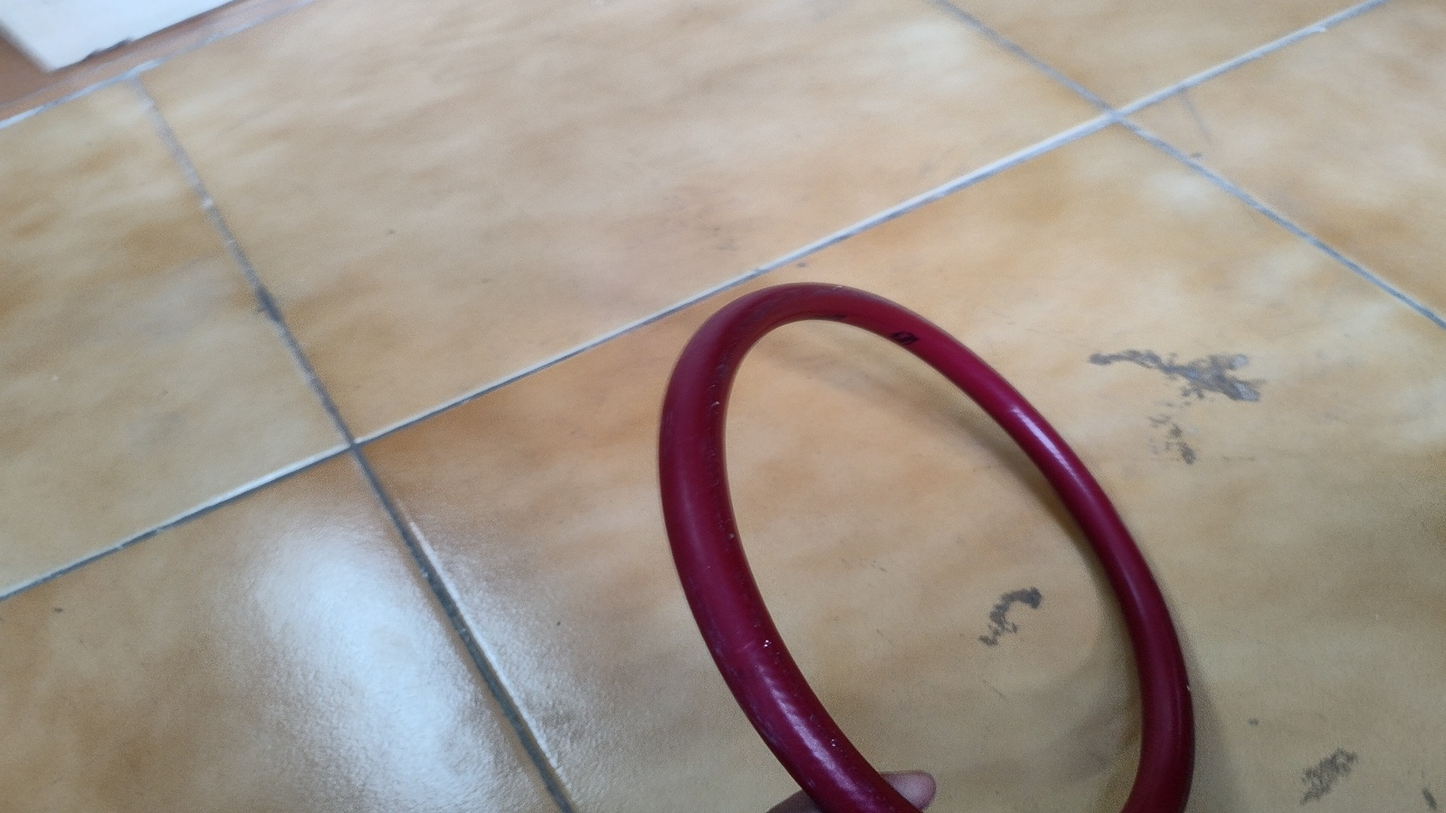Red ring: (657, 282, 1198, 813)
